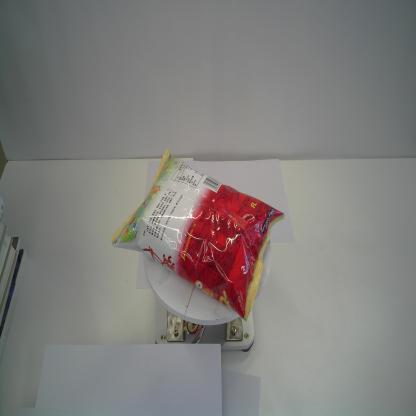Puffed Food: (109, 148, 285, 322)
